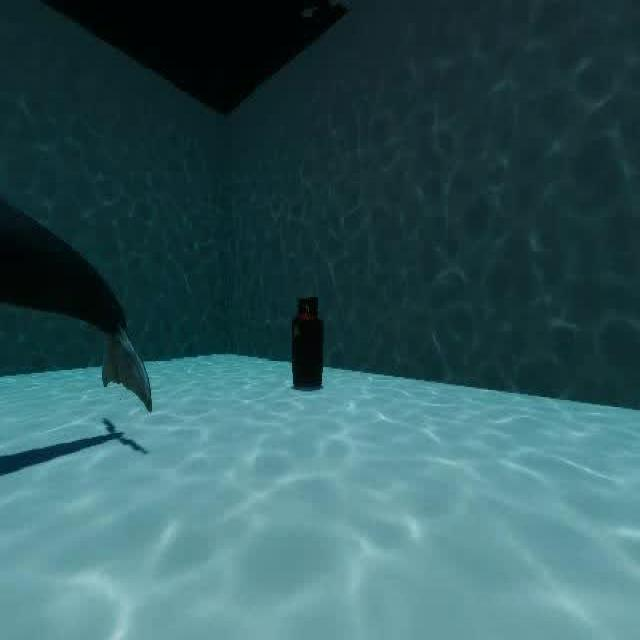Cylinder: (282, 279, 337, 410)
Whale: (0, 170, 164, 431)
